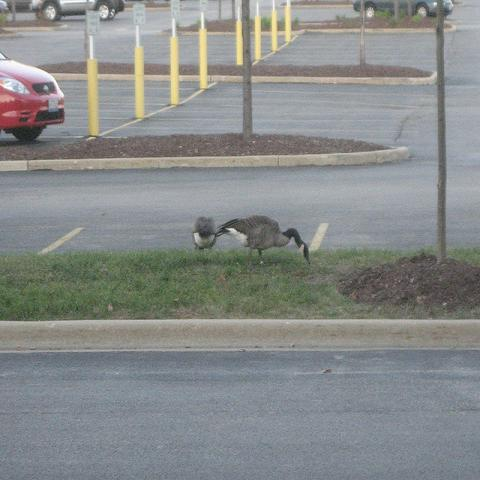car: (0, 52, 66, 146), (30, 1, 125, 22), (352, 0, 454, 19)
